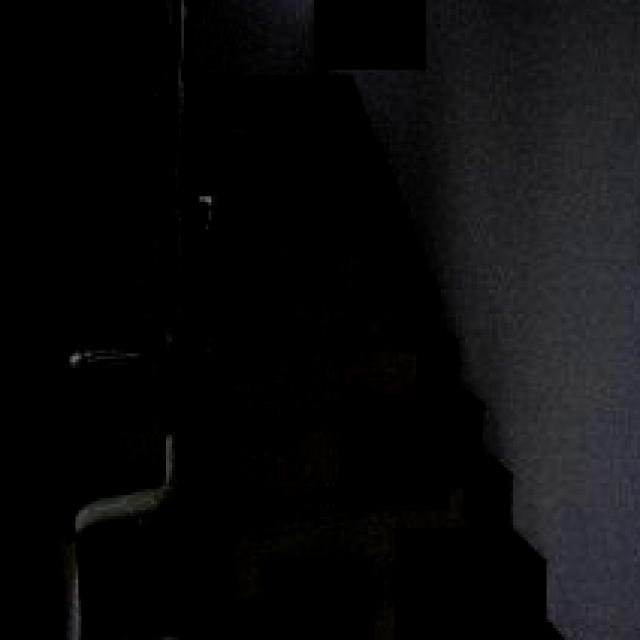upstair: (222, 110, 418, 360)
